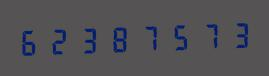eight: (104, 21, 132, 56)
five: (162, 19, 190, 54)
seven: (133, 20, 161, 55), (191, 18, 219, 53)
six: (17, 24, 45, 59)
three: (75, 22, 103, 57), (220, 17, 248, 52)
two: (46, 23, 74, 58)
